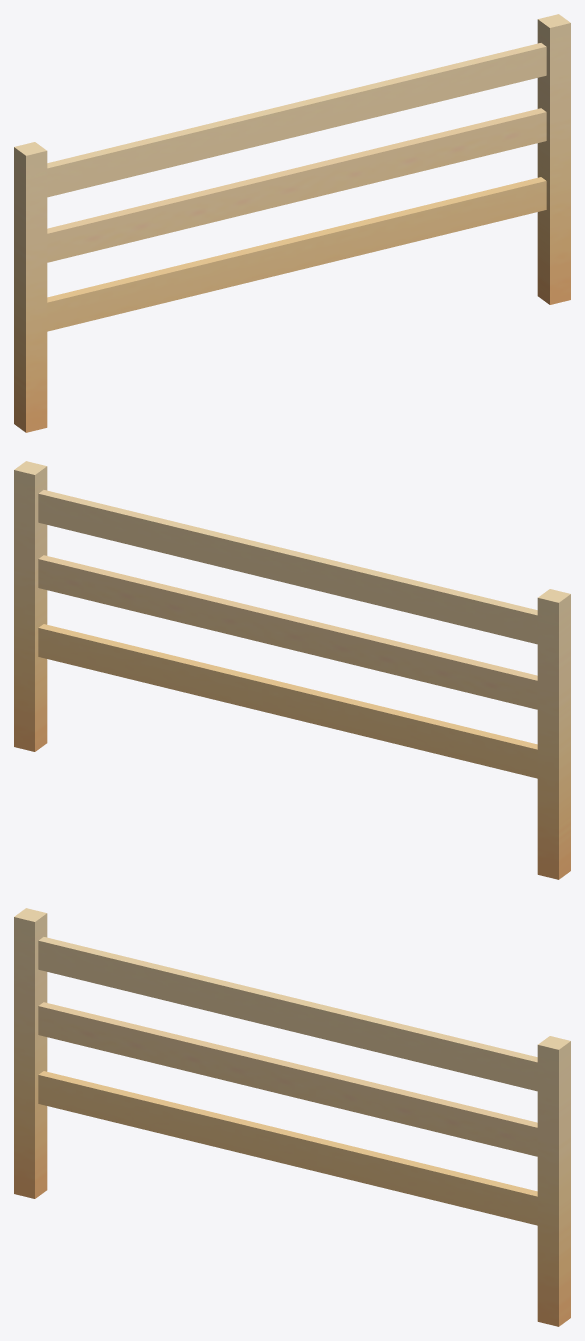
The model's file is Fence.fbx.
3 views of the same model, one above another, from view 1: azimuth 30°, elevation 25°; view 2: azimuth 150°, elevation 25°; view 3: azimuth 330°, elevation 25° (orthographic).
Visible parts, largest first — view 1: Fence2, Fence3, Fence4, Fence, Fence1; view 2: Fence2, Fence3, Fence4, Fence, Fence1; view 3: Fence2, Fence3, Fence4, Fence1, Fence.
Part boxes in pixels (x1,y1,x2,y2): Fence2: [47, 108, 546, 262]; Fence3: [47, 177, 546, 331]; Fence4: [47, 43, 546, 197]; Fence: [14, 142, 47, 432]; Fence1: [537, 14, 570, 304]; Fence2: [38, 555, 537, 709]; Fence3: [38, 624, 537, 778]; Fence4: [38, 490, 537, 644]; Fence: [537, 589, 570, 879]; Fence1: [14, 461, 47, 751]; Fence2: [38, 1002, 537, 1156]; Fence3: [38, 1071, 537, 1225]; Fence4: [38, 937, 537, 1091]; Fence1: [537, 1036, 570, 1326]; Fence: [14, 908, 47, 1198].
Size of the model in its own units: 25.88 by 12.57 by 1.
1 material, 1 textured.
